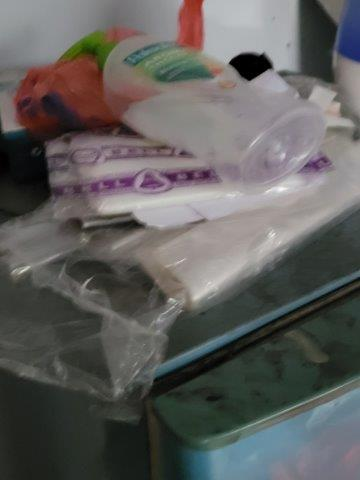plastik: (25, 131, 348, 297)
